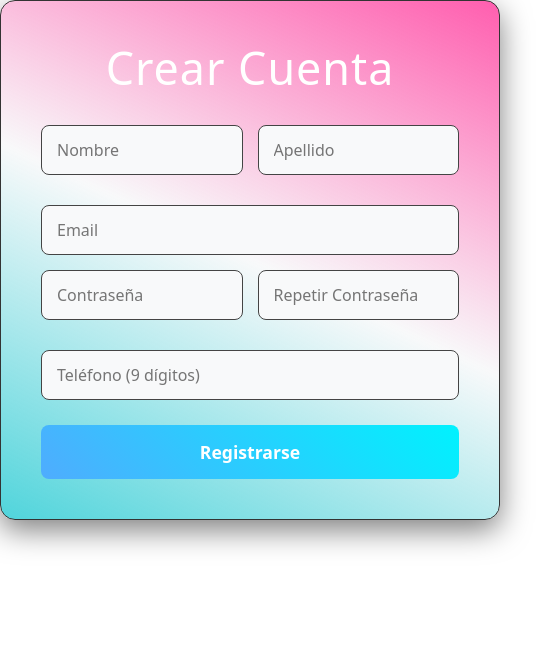
Test: Registro de usuarios › muestra error si el correo no es valido
Type "Juan" into the field with placeholder "Nombre". click: (142, 150)
box: left=41, top=125, right=242, bottom=175
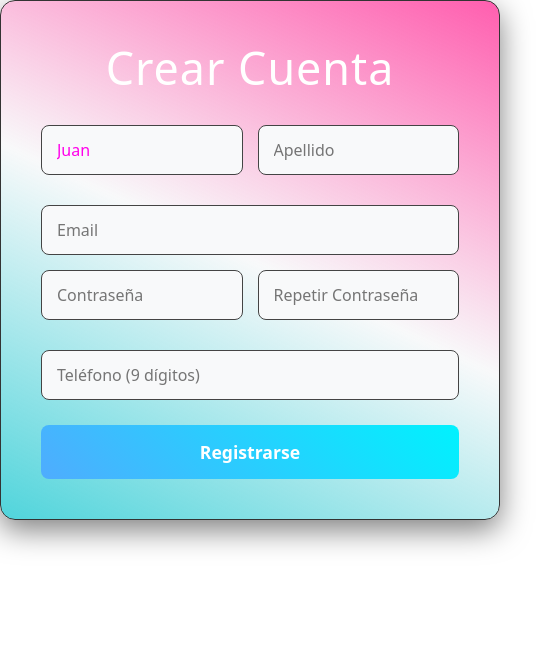
Type "Perez" into the field with placeholder "Apellido". click: (358, 150)
box: left=258, top=125, right=459, bottom=175
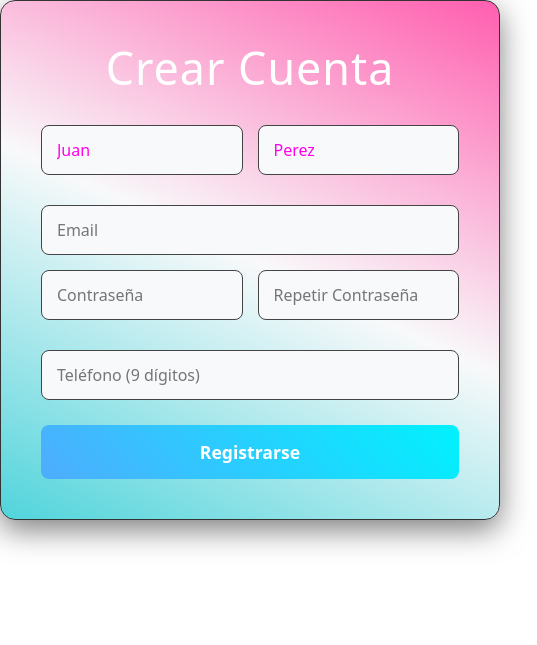
Type "correo@novalido.com" into the field with placeholder "Email". click: (250, 230)
box: left=41, top=205, right=459, bottom=255
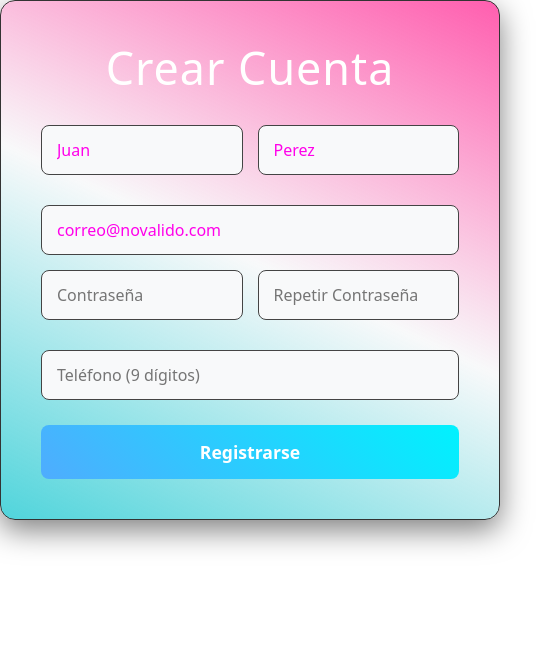
Click the button "Registrarse". click: (250, 452)
box: left=41, top=425, right=459, bottom=479
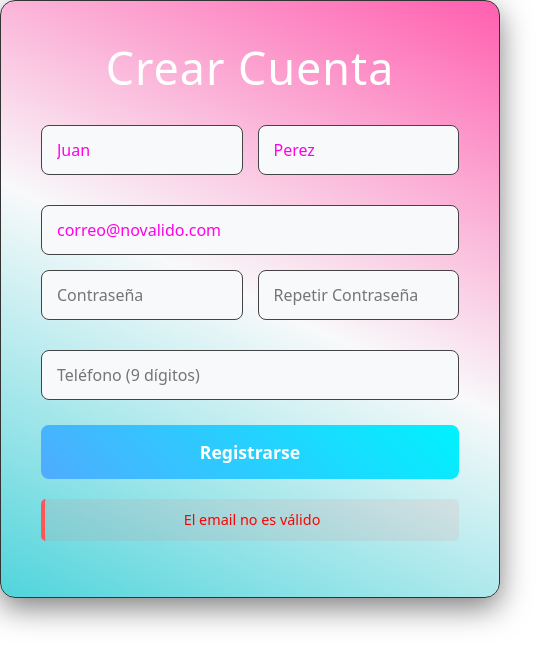
Result: the text "El email no es válido" is shown at left=41, top=499, right=459, bottom=541
